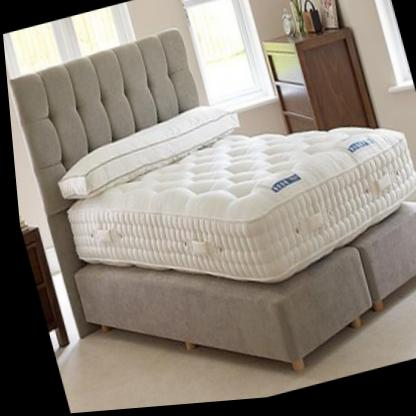Bed: (2, 0, 416, 416)
Nightstand: (255, 14, 373, 147)
Window: (175, 0, 271, 119)
